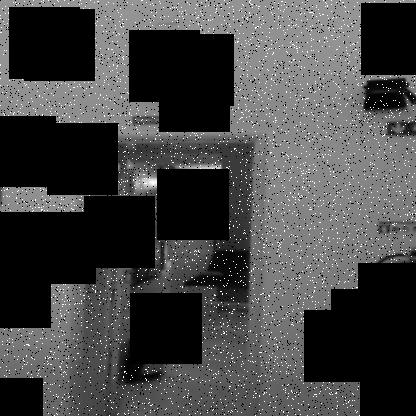Porte: (63, 130, 271, 415)
